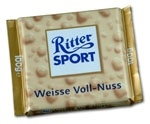grozi_67: (6, 5, 144, 116)
